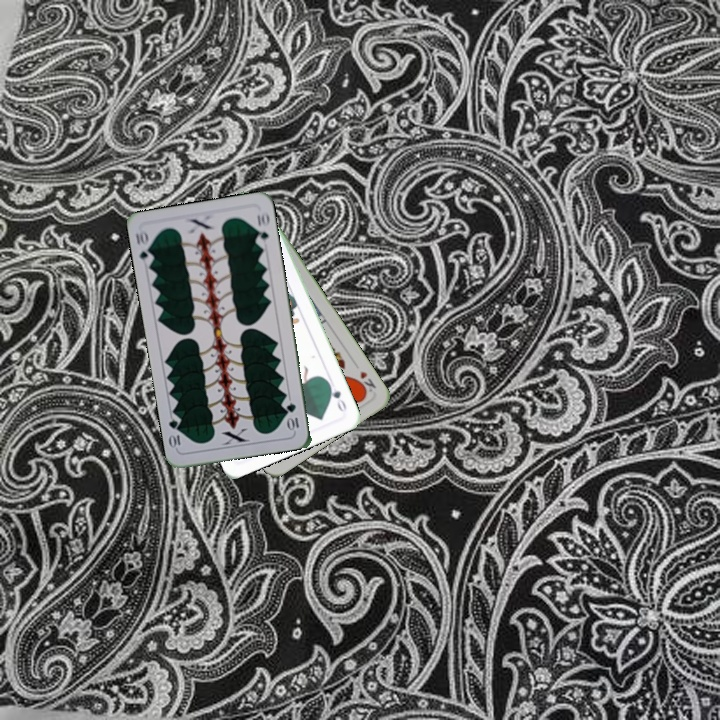G10: (132, 226, 156, 266), (283, 399, 301, 433)
GO: (324, 378, 349, 414)
HK: (352, 367, 379, 396)
